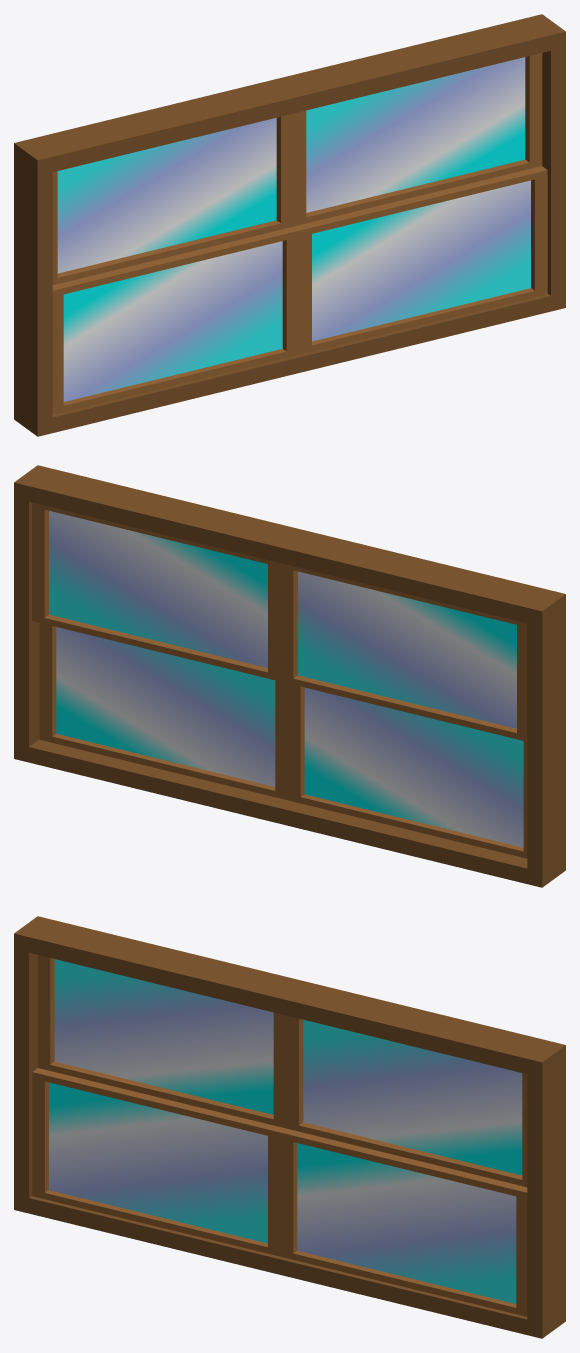
The model's file is janela02.FBX.
The picture shows the model from 3 angles, top to bottom: view 1: azimuth 30°, elevation 25°; view 2: azimuth 150°, elevation 25°; view 3: azimuth 330°, elevation 25°; orthographic projection.
Parts seen in each view (by area): view 1: janela003, janela004, janela mestre001; view 2: janela004, janela003, janela mestre001; view 3: janela003, janela004, janela mestre001.
Boxes of the visible parts, x1,y1,x2,y2 form: janela003: (52, 166, 547, 414); janela004: (52, 53, 542, 285); janela mestre001: (14, 14, 565, 436); janela004: (32, 502, 527, 741); janela003: (39, 623, 527, 858); janela mestre001: (14, 465, 565, 887); janela003: (32, 1068, 527, 1316); janela004: (37, 955, 527, 1187); janela mestre001: (14, 916, 565, 1338).
Size of the model in its own units: 78.74 by 39.37 by 6.13.
2 materials, 2 textured.
